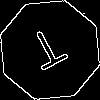T: (25, 25, 74, 80)
